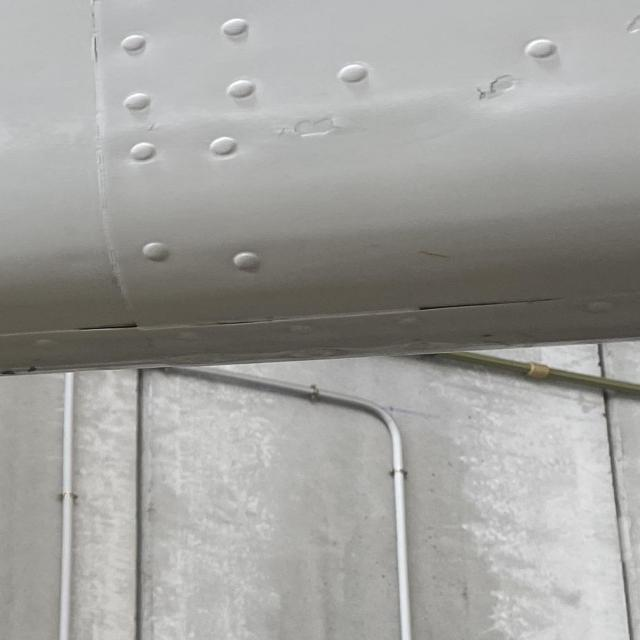Paint-off: (281, 115, 349, 140), (477, 73, 523, 101), (612, 3, 640, 44)
